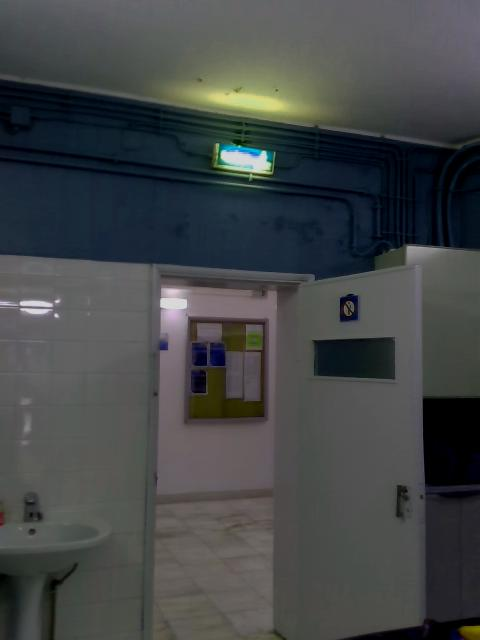open_door: (142, 260, 315, 639)
